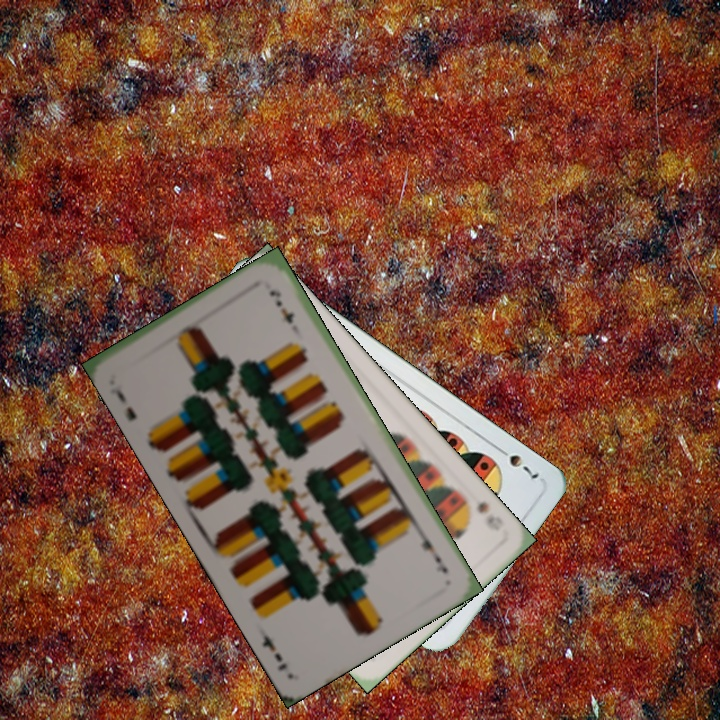E7: (414, 527, 451, 576), (108, 384, 139, 424)
S7: (492, 442, 542, 482)
S9: (458, 492, 492, 517)
